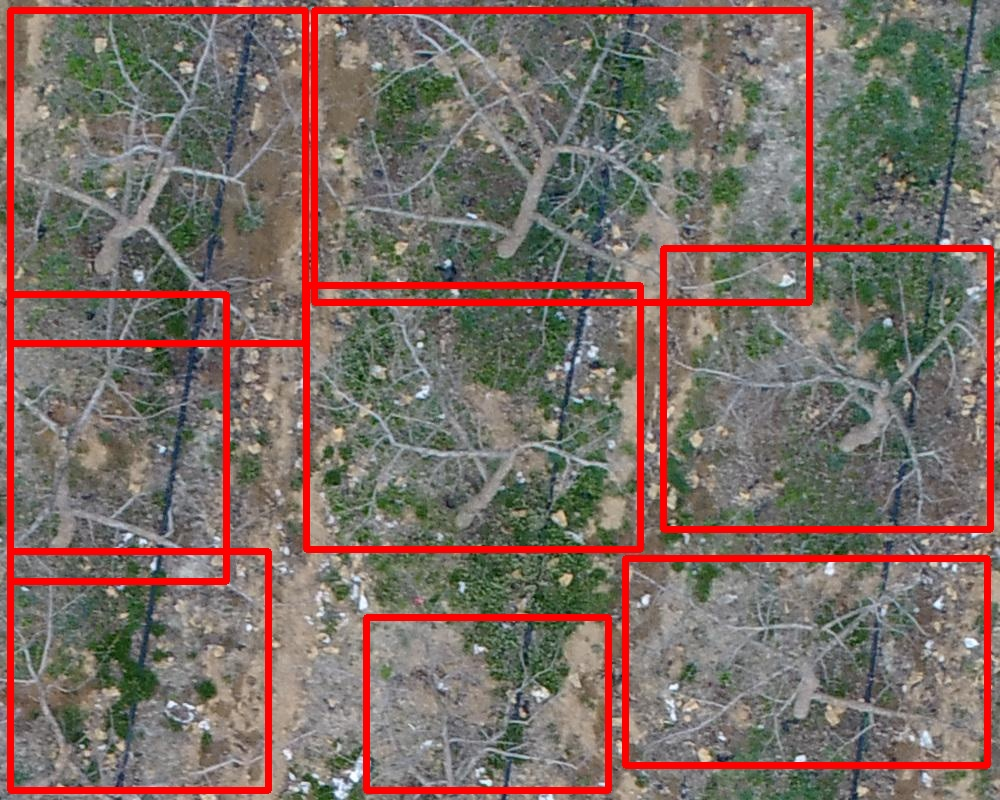apple: (314, 10, 809, 302), (10, 10, 305, 343), (663, 248, 990, 529), (306, 285, 640, 549), (625, 558, 987, 765), (10, 294, 226, 581), (10, 551, 268, 790), (366, 617, 608, 790)
